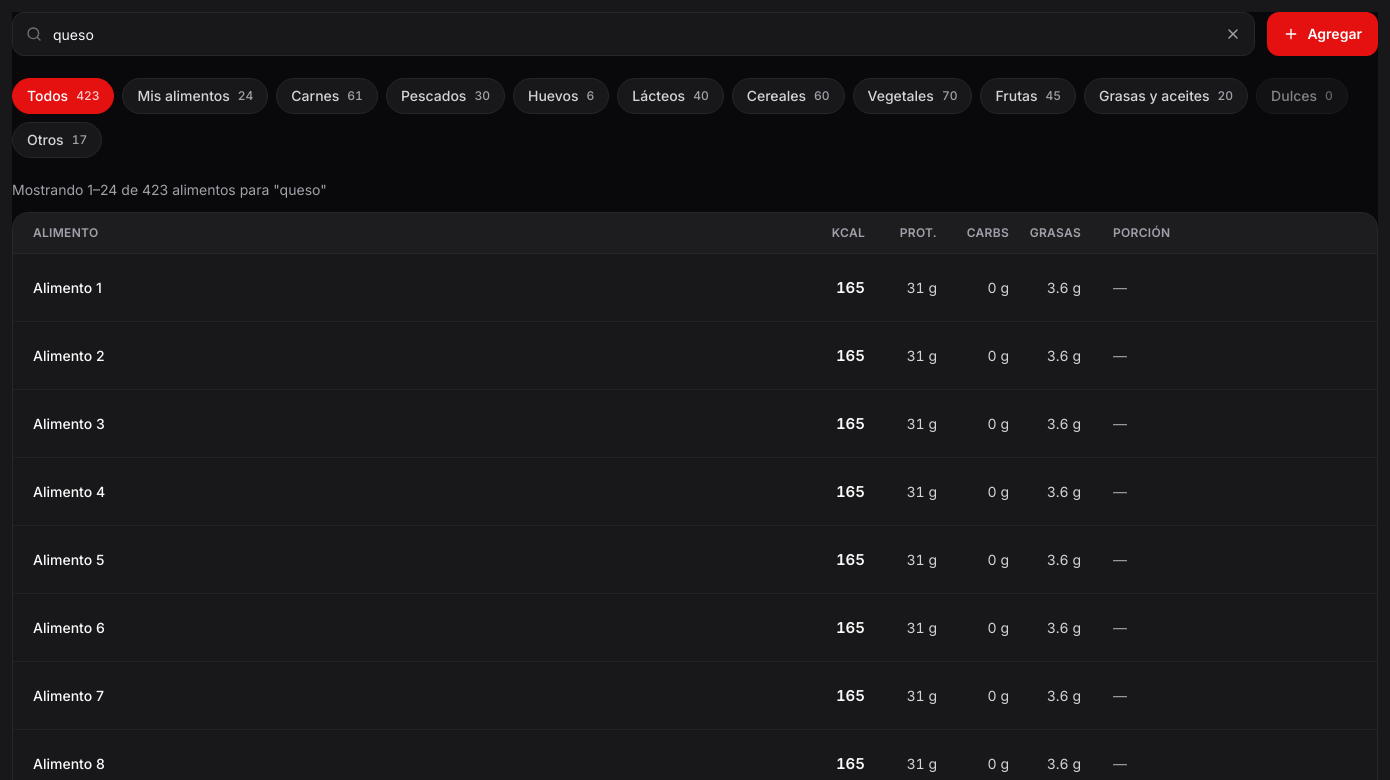
Scenario: search › clear button › empties the field and removes q from the URL right away
Click the button named "Limpiar búsqueda": [1233, 34] box x1=1211 y1=12 x2=1255 y2=56
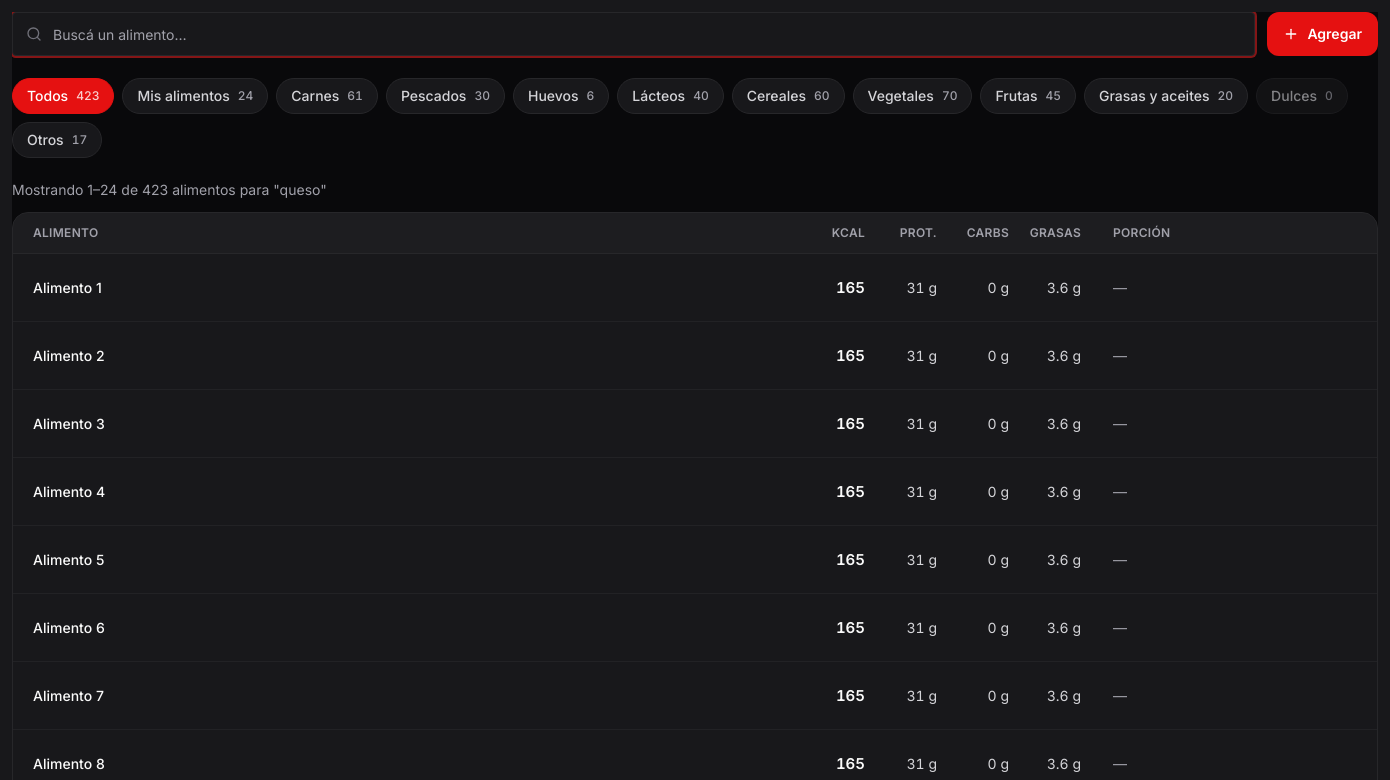
Expected: the search field named "Buscar alimento" is empty, x1=12 y1=12 x2=1255 y2=56
